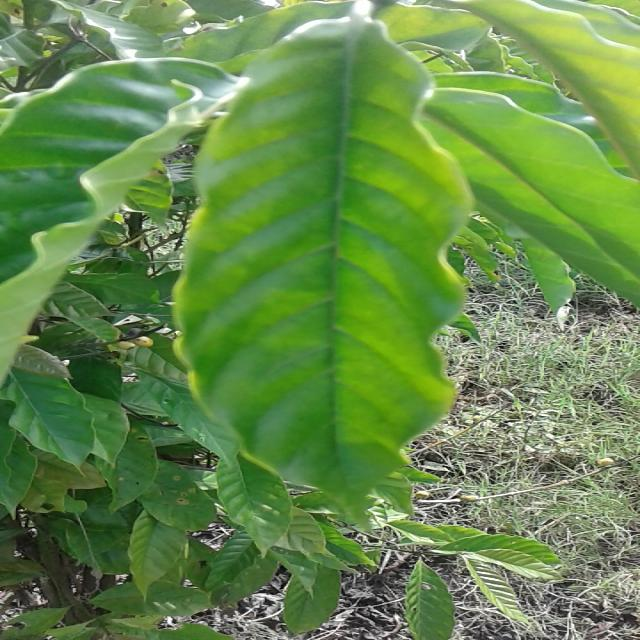Sanas: (173, 0, 474, 514)
